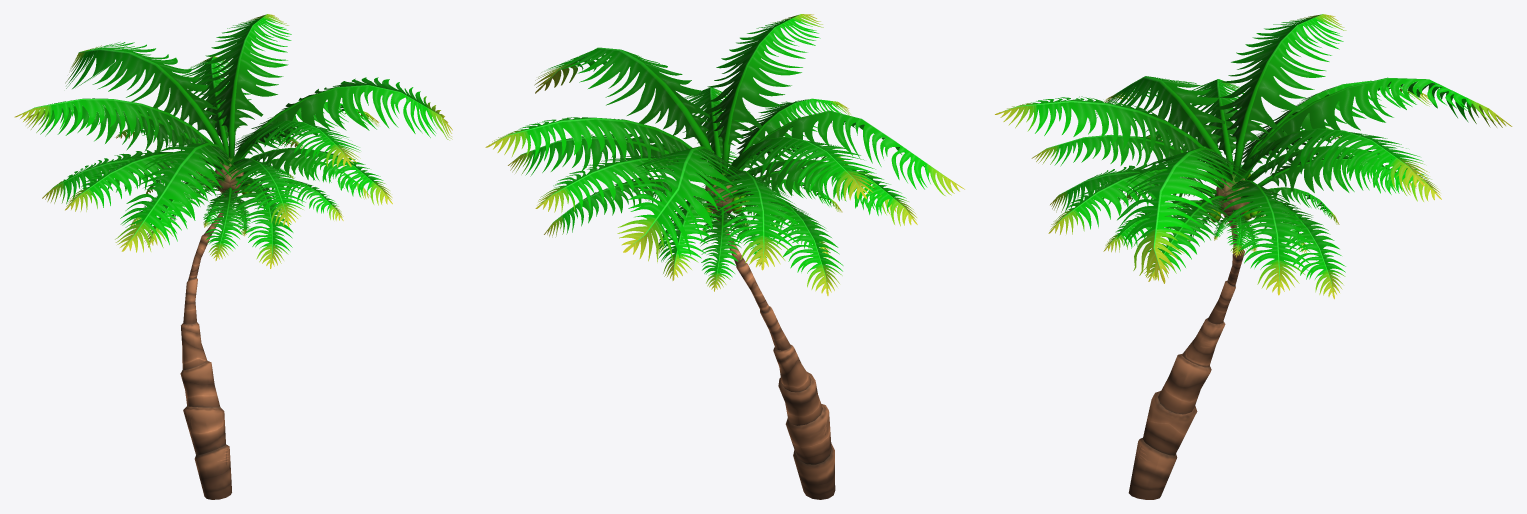
Rendered from Palm.fbx.
3 renders of one model, left to right at view 1: azimuth 30°, elevation 25°; view 2: azimuth 150°, elevation 25°; view 3: azimuth 270°, elevation 25°, orthographic. The views are drawn at different scales.
Parts seen in each view (by area): view 1: Цилиндр.001, Цилиндр.029, Цилиндр.028, Цилиндр.025, Цилиндр.027, Цилиндр.030, Цилиндр.026, Цилиндр.019, Цилиндр.021, Цилиндр.020, Цилиндр.024, Цилиндр.005 (+8 smaller); view 2: Цилиндр.001, Цилиндр.029, Цилиндр.026, Цилиндр.027, Цилиндр.028, Цилиндр.024, Цилиндр.025, Цилиндр.030, Цилиндр.023, Цилиндр.018, Цилиндр.019, Цилиндр.022 (+6 smaller); view 3: Цилиндр.001, Цилиндр.030, Цилиндр.027, Цилиндр.029, Цилиндр.026, Цилиндр.022, Цилиндр.028, Цилиндр.025, Цилиндр.021, Цилиндр.023, Цилиндр.016, Цилиндр.020 (+9 smaller).
Boxes of the visible parts, left/top/right/bottom form: Цилиндр.001: left=180, top=194, right=237, bottom=499; Цилиндр.029: left=65, top=42, right=228, bottom=157; Цилиндр.028: left=199, top=14, right=291, bottom=158; Цилиндр.025: left=115, top=143, right=239, bottom=252; Цилиндр.027: left=232, top=77, right=452, bottom=159; Цилиндр.030: left=14, top=98, right=223, bottom=163; Цилиндр.026: left=231, top=120, right=360, bottom=167; Цилиндр.019: left=65, top=152, right=221, bottom=211; Цилиндр.021: left=238, top=147, right=392, bottom=205; Цилиндр.020: left=225, top=158, right=305, bottom=226; Цилиндр.024: left=24, top=104, right=219, bottom=161; Цилиндр.005: left=230, top=176, right=293, bottom=268; Цилиндр.001: left=715, top=218, right=835, bottom=499; Цилиндр.029: left=617, top=146, right=743, bottom=262; Цилиндр.026: left=704, top=14, right=823, bottom=173; Цилиндр.027: left=534, top=47, right=721, bottom=171; Цилиндр.028: left=485, top=117, right=715, bottom=179; Цилиндр.024: left=702, top=170, right=799, bottom=270; Цилиндр.025: left=736, top=110, right=964, bottom=195; Цилиндр.030: left=725, top=136, right=876, bottom=200; Цилиндр.023: left=535, top=155, right=713, bottom=212; Цилиндр.018: left=729, top=191, right=843, bottom=295; Цилиндр.019: left=731, top=159, right=917, bottom=226; Цилиндр.022: left=508, top=133, right=710, bottom=177; Цилиндр.001: left=1128, top=215, right=1244, bottom=499; Цилиндр.030: left=1215, top=14, right=1346, bottom=174; Цилиндр.027: left=1117, top=147, right=1252, bottom=283; Цилиндр.029: left=1236, top=77, right=1512, bottom=178; Цилиндр.026: left=995, top=96, right=1225, bottom=180; Цилиндр.022: left=1217, top=180, right=1311, bottom=295; Цилиндр.028: left=1234, top=128, right=1429, bottom=188; Цилиндр.025: left=1096, top=76, right=1230, bottom=172; Цилиндр.021: left=1048, top=168, right=1224, bottom=234; Цилиндр.023: left=1245, top=145, right=1441, bottom=201; Цилиндр.016: left=1241, top=195, right=1345, bottom=299; Цилиндр.020: left=1031, top=134, right=1221, bottom=181.
Size of the model in its own units: 3084 by 2994 by 3225.
